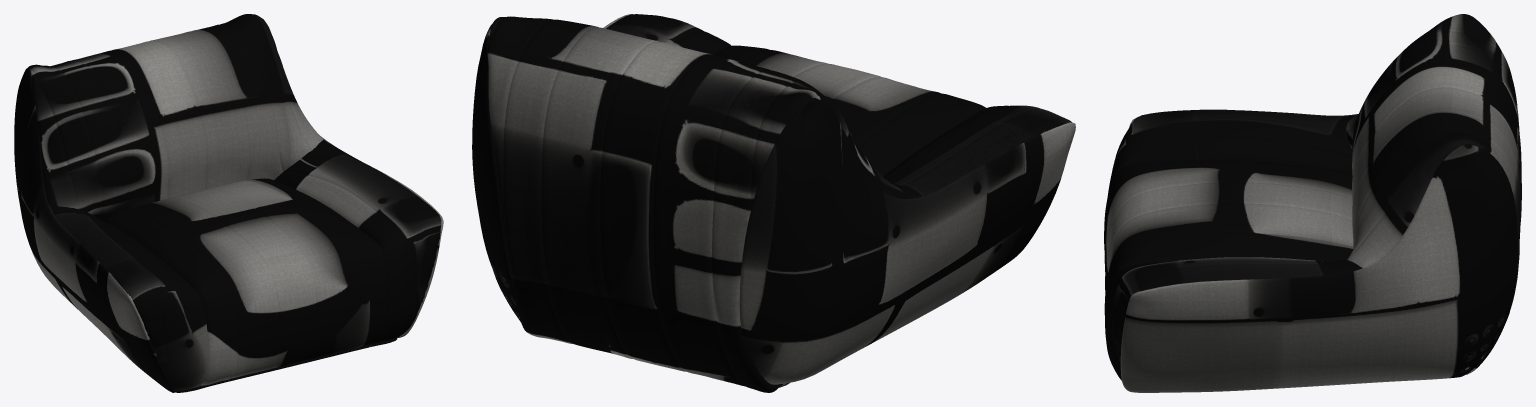
The model's file is ivanChair.gltf.
3 renders of one model, left to right at view 1: azimuth 30°, elevation 25°; view 2: azimuth 150°, elevation 25°; view 3: azimuth 270°, elevation 25°, orthographic. The views are drawn at different scales.
Visible parts, largest first — view 1: FABRIC; view 2: FABRIC; view 3: FABRIC.
Boxes of the visible parts, x1,y1,x2,y2 form: FABRIC: [14, 14, 443, 392]; FABRIC: [472, 14, 1075, 392]; FABRIC: [1104, 14, 1521, 392].
Size of what is drawn, in the model's own units: 98.98 by 66.8 by 98.5.
